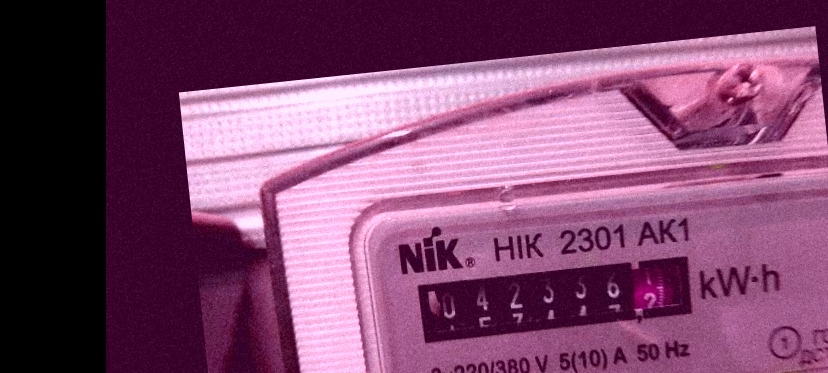0: (439, 290, 458, 320)
1: (640, 264, 654, 287)
2: (506, 279, 525, 310), (641, 289, 659, 309)
3: (570, 270, 589, 301), (538, 275, 556, 304)
4: (472, 282, 492, 312)
6: (604, 268, 624, 300)
screen: (405, 242, 708, 353)
